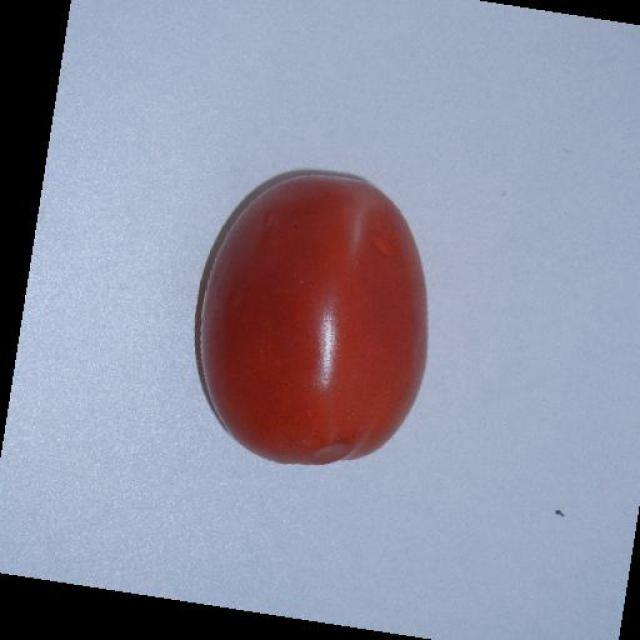tomato: (194, 170, 430, 469)
